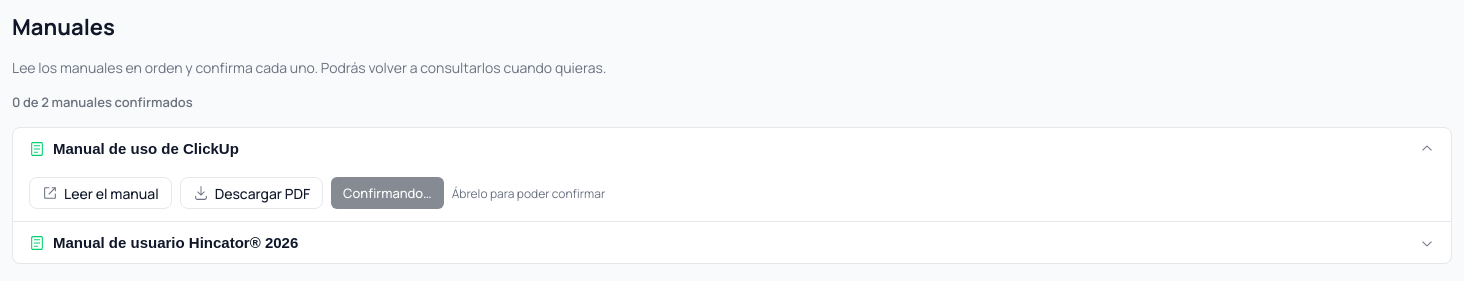
Test: ManualStep — cascada de manuales (migración 040) › solo marca como "Confirmando…" el manual que se está enviando
Expected: the button "Confirmando…" is shown, [331,177,444,209]
Step 1. Click the button "Manual de usuario Hincator® 2026" → click(176, 242), box [13,222,1451,263]
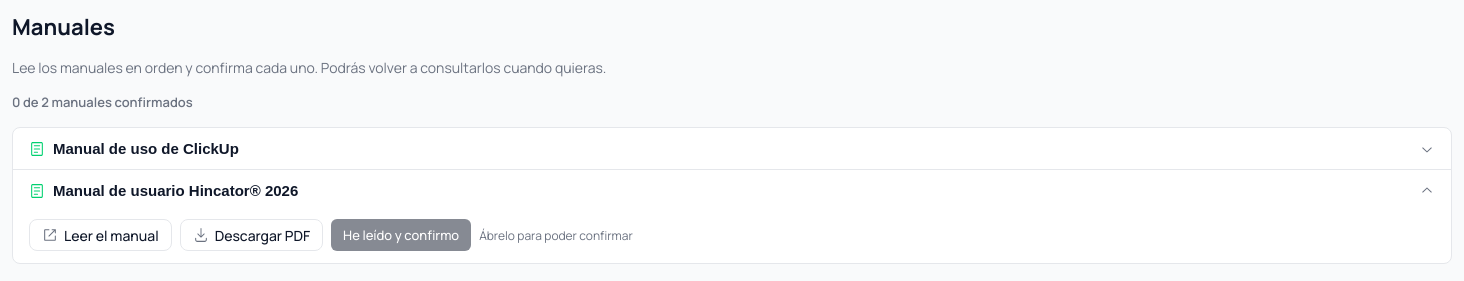
Expected: the button "He leído y confirmo" is shown, [331,219,471,251]
Expected: the button "Confirmando…" is gone
